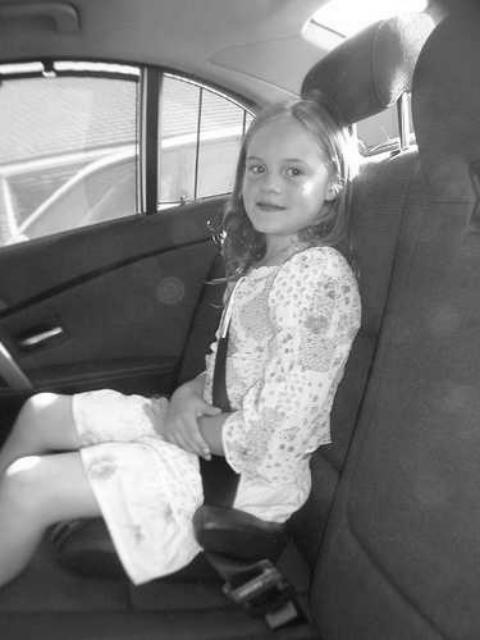SafeDriving: (278, 158, 310, 180), (243, 156, 270, 177)
Seatbelt: (197, 320, 243, 524)
